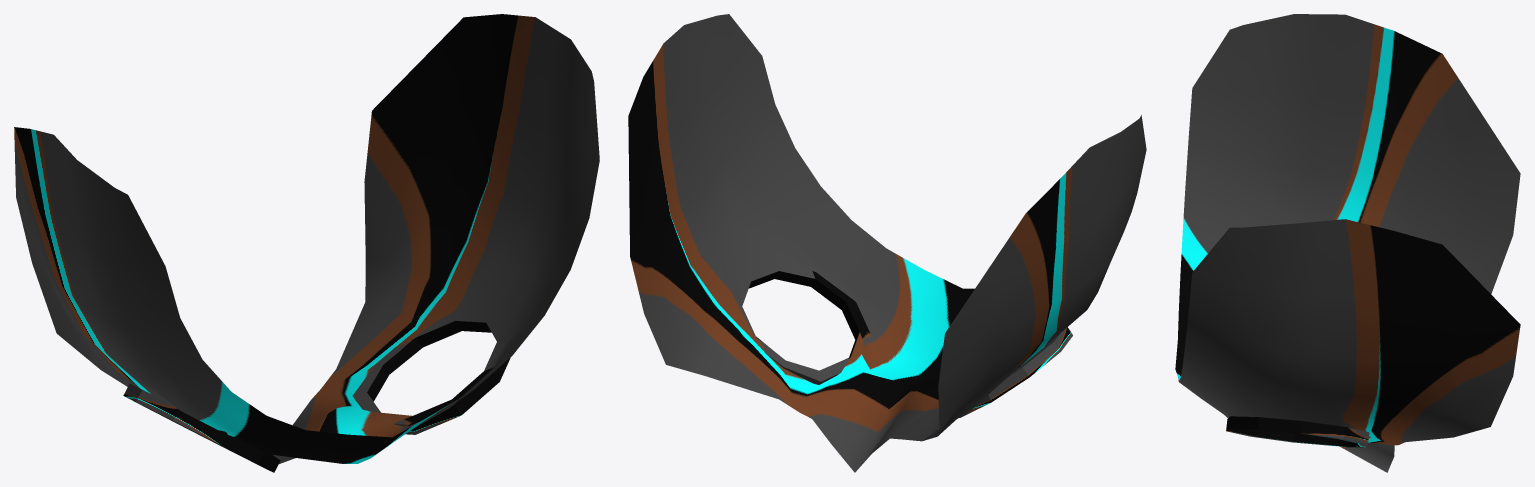
Rendered from TruthAnimation2.fbx.
3 renders of one model, left to right at view 1: azimuth 30°, elevation 25°; view 2: azimuth 150°, elevation 25°; view 3: azimuth 270°, elevation 25°, orthographic. The views are drawn at different scales.
Parts seen in each view (by area): view 1: pasted__polySurface1; view 2: pasted__polySurface1; view 3: pasted__polySurface1.
Part boxes in pixels (x1,y1,x2,y2): pasted__polySurface1: (14,14,599,472); pasted__polySurface1: (628,14,1146,472); pasted__polySurface1: (1175,14,1520,472).
Size of the model in its own units: 6.88 by 5.45 by 4.79.
